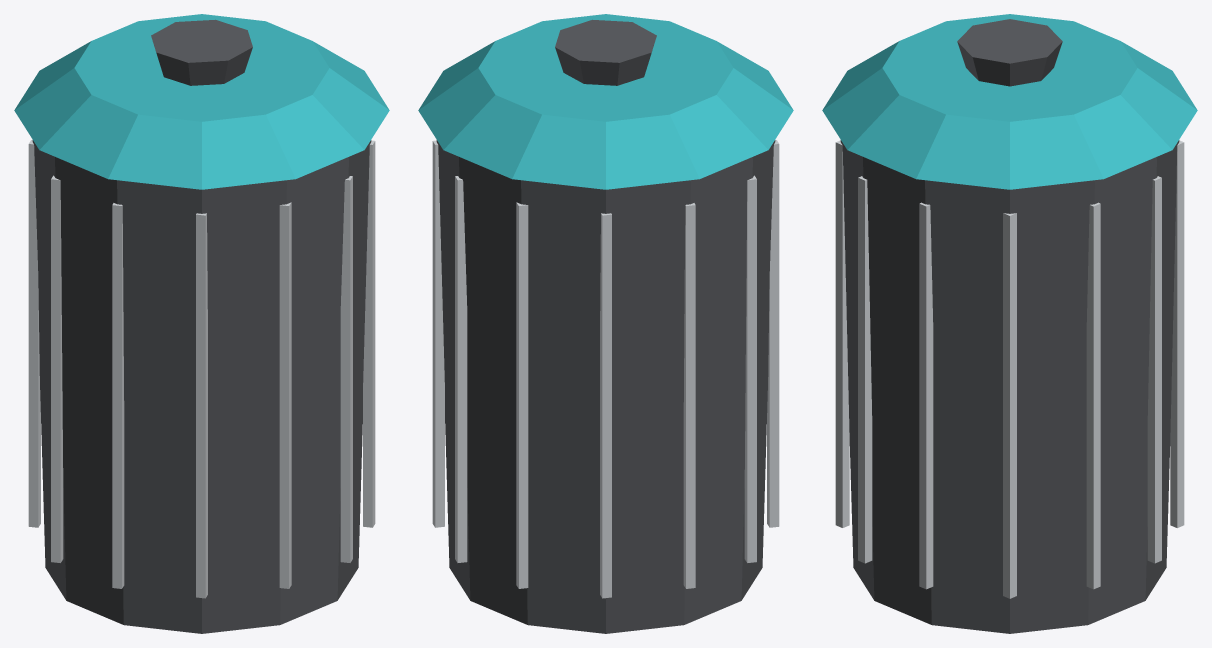
Rendered from skate-park-and-street-sports-litter-bin-f273d204__33547.glb.
3 views of the same model, side by side, from view 1: azimuth 30°, elevation 25°; view 2: azimuth 150°, elevation 25°; view 3: azimuth 270°, elevation 25° (orthographic).
Visible parts, largest first — view 1: litter-bin-charcoal, lid/teal, litter-bin-steel, lid/charcoal; view 2: litter-bin-charcoal, lid/teal, litter-bin-steel, lid/charcoal; view 3: litter-bin-charcoal, lid/teal, litter-bin-steel, lid/charcoal.
Part boxes in pixels (x1,y1,x2,y2): litter-bin-charcoal: [32, 140, 371, 633]; lid/teal: [14, 14, 389, 189]; litter-bin-steel: [28, 140, 375, 598]; lid/charcoal: [151, 19, 252, 85]; litter-bin-charcoal: [436, 140, 775, 633]; lid/teal: [418, 14, 793, 189]; litter-bin-steel: [432, 140, 779, 598]; lid/charcoal: [555, 19, 656, 85]; litter-bin-charcoal: [840, 140, 1179, 633]; lid/teal: [822, 14, 1197, 189]; litter-bin-steel: [835, 140, 1184, 598]; lid/charcoal: [957, 19, 1062, 86].
Bounding box in the file's own units: 0.64 × 0.99 × 0.64.
